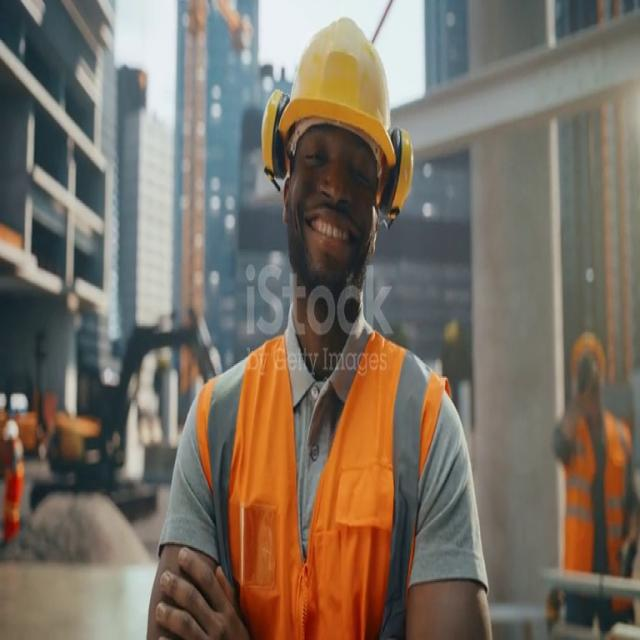capacete: (267, 12, 414, 208)
